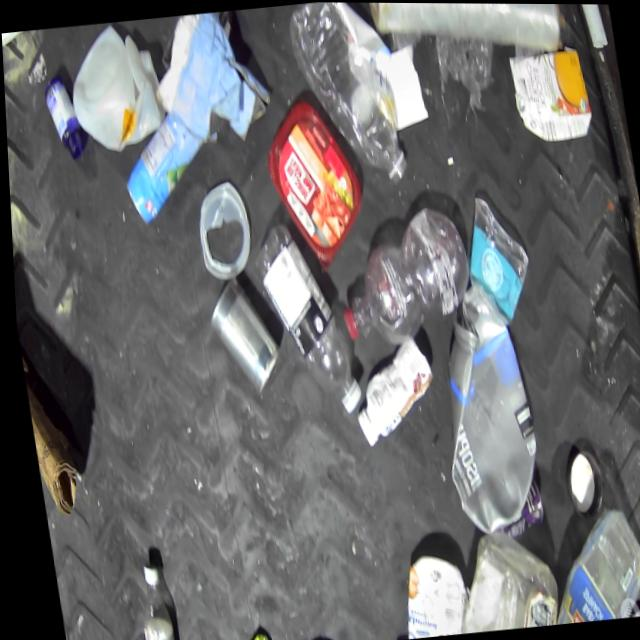can: (112, 109, 208, 227), (199, 272, 280, 399), (188, 178, 253, 280), (486, 477, 541, 539)
milk_jug: (58, 17, 170, 157), (387, 552, 464, 639)
non_white_jug: (419, 283, 543, 539), (505, 44, 593, 144)
plastic_bottle: (284, 2, 407, 193), (247, 214, 359, 420), (325, 200, 476, 349), (125, 561, 168, 640)
